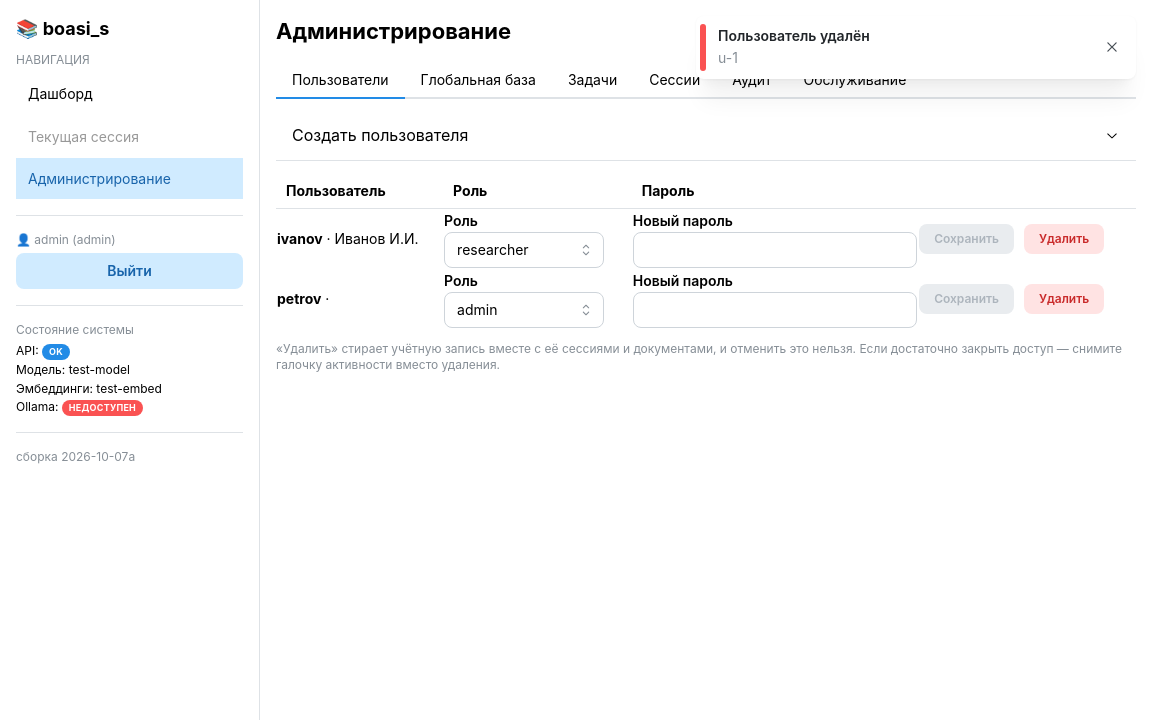
Scenario: админка › удаление: отмена не шлёт запрос
This screenshot has width=1152, height=720.
Expected: the text "ivanov" is shown, [277,230,323,247]
Click the button with aria-label "Удалить: ivanov": (1064, 239) [1024,224,1104,254]
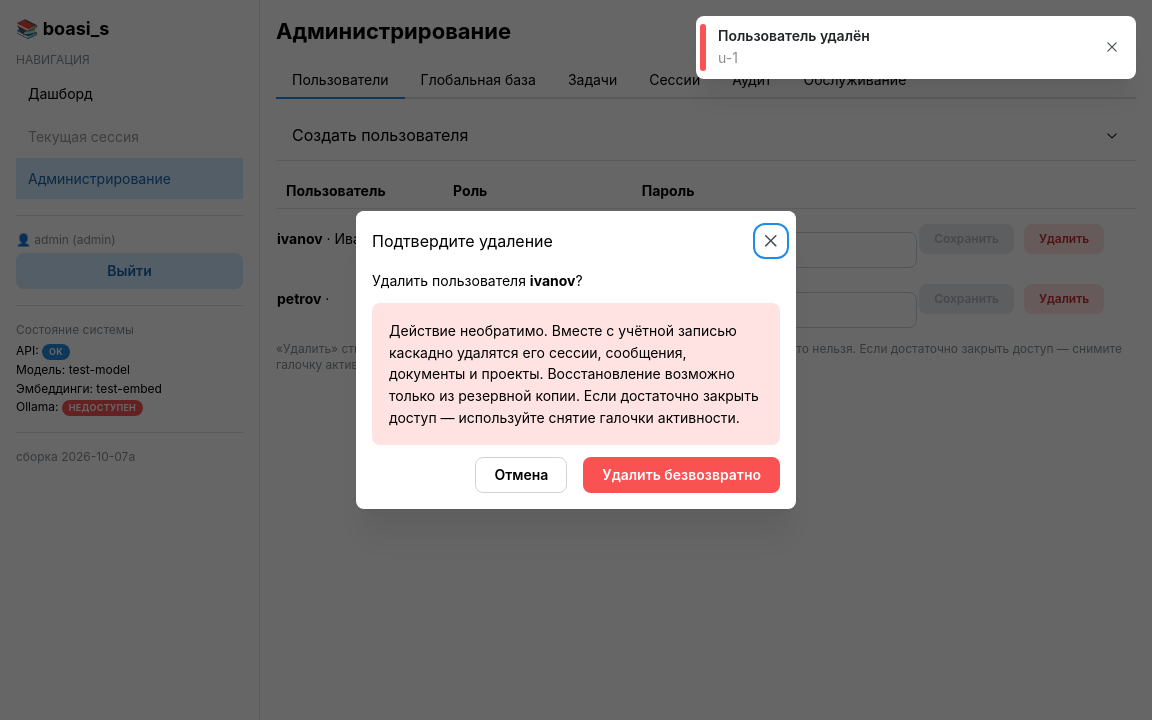
Click the button "Отмена": (521, 475) [475,457,567,493]
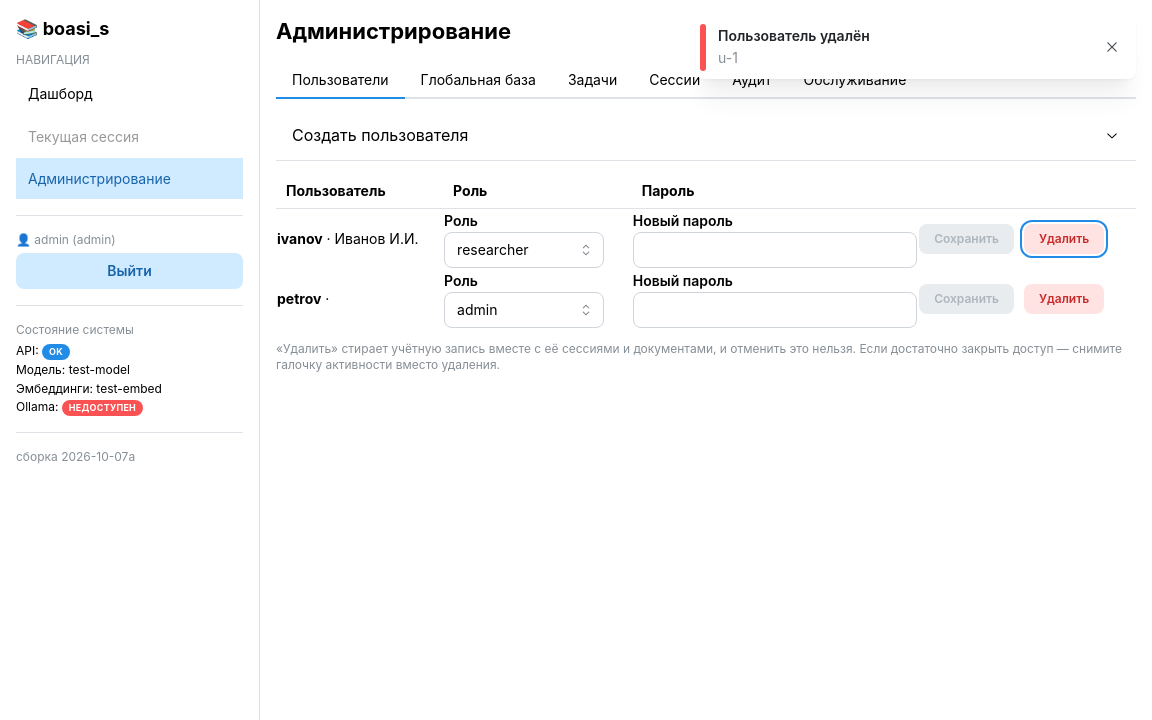
Result: the text "Действие необратимо" is gone
